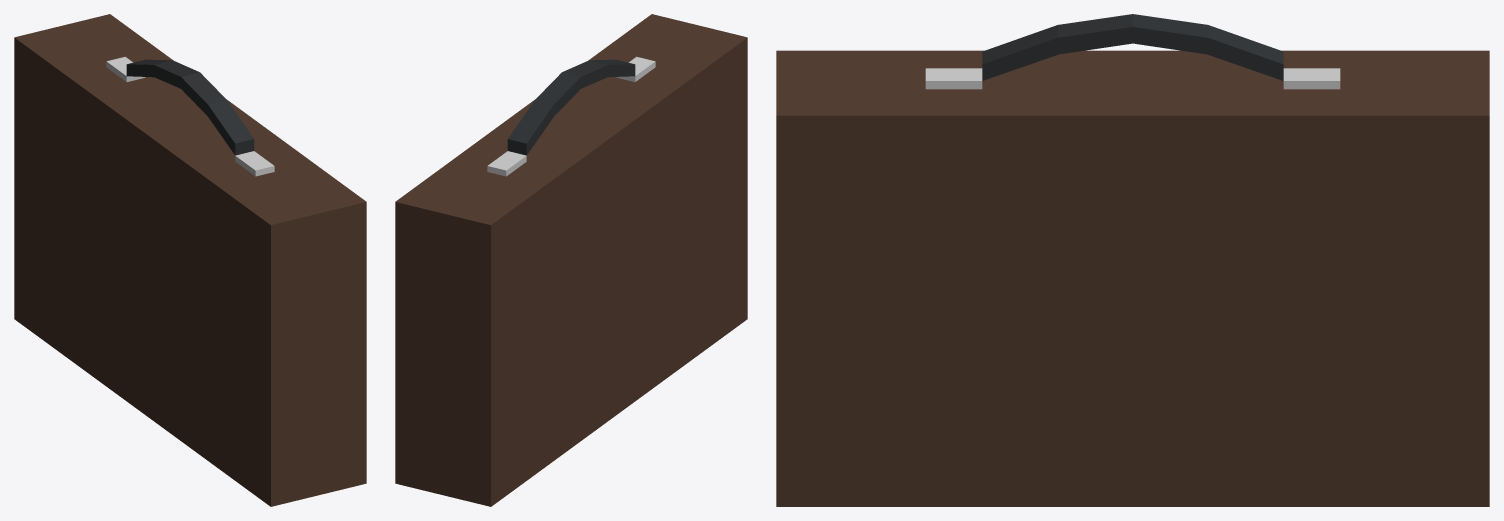
Rendered from Boïte_Pétanque_.fbx.
The picture shows the model from 3 angles, left to right: view 1: azimuth 30°, elevation 25°; view 2: azimuth 150°, elevation 25°; view 3: azimuth 270°, elevation 25°; orthographic projection. The views are drawn at different scales.
Visible parts, largest first — view 1: Boïte_Pétanque_; view 2: Boïte_Pétanque_; view 3: Boïte_Pétanque_.
Part boxes in pixels (<box>): Boïte_Pétanque_: <box>14,14,366,506</box>; Boïte_Pétanque_: <box>395,14,747,506</box>; Boïte_Pétanque_: <box>776,14,1489,506</box>.
Size of the model in its own units: 16.73 by 54.49 by 77.58.
Materials: 1 (1 with a texture image).
